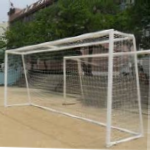goals: (4, 26, 146, 147)
